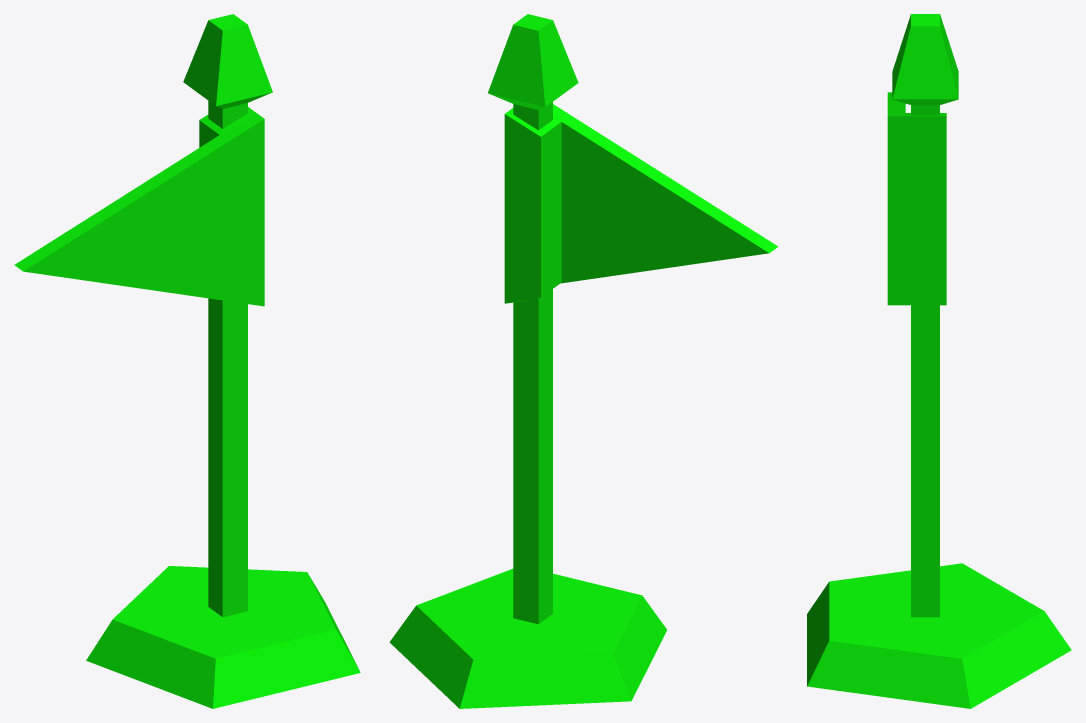
The model's file is SM_Battlemap_Figurine_Flag_A_Fantasy.fbx.
The picture shows the model from 3 angles, left to right: view 1: azimuth 30°, elevation 25°; view 2: azimuth 150°, elevation 25°; view 3: azimuth 270°, elevation 25°; orthographic projection.
Visible parts, largest first — view 1: battlemap-figurine-flag-a-fantasy; view 2: battlemap-figurine-flag-a-fantasy; view 3: battlemap-figurine-flag-a-fantasy.
Boxes of the visible parts, <box> form: battlemap-figurine-flag-a-fantasy: <box>14,14,360,708</box>; battlemap-figurine-flag-a-fantasy: <box>389,14,778,708</box>; battlemap-figurine-flag-a-fantasy: <box>807,14,1071,708</box>.
Size of the model in its own units: 0.1996 by 0.3475 by 0.1323.
